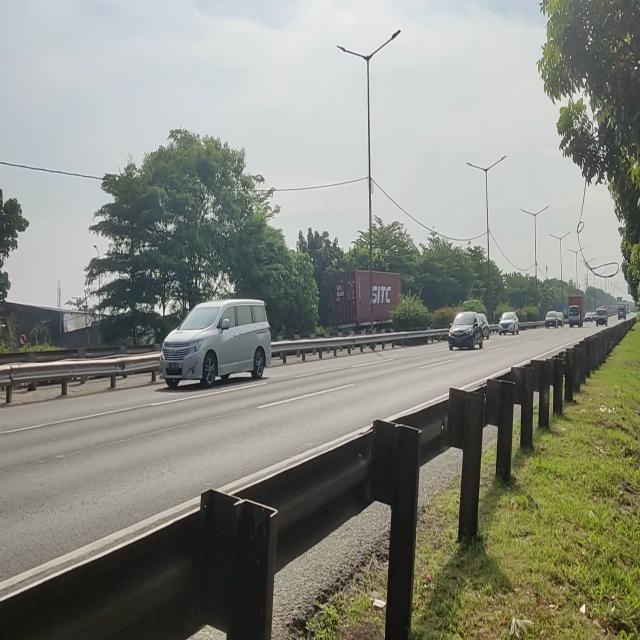Golongan I: (155, 291, 284, 393)
